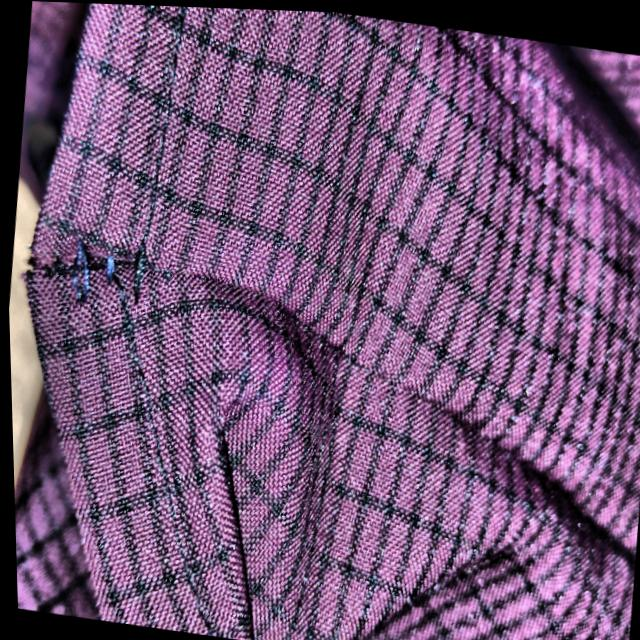Stitch: (41, 221, 165, 322)
